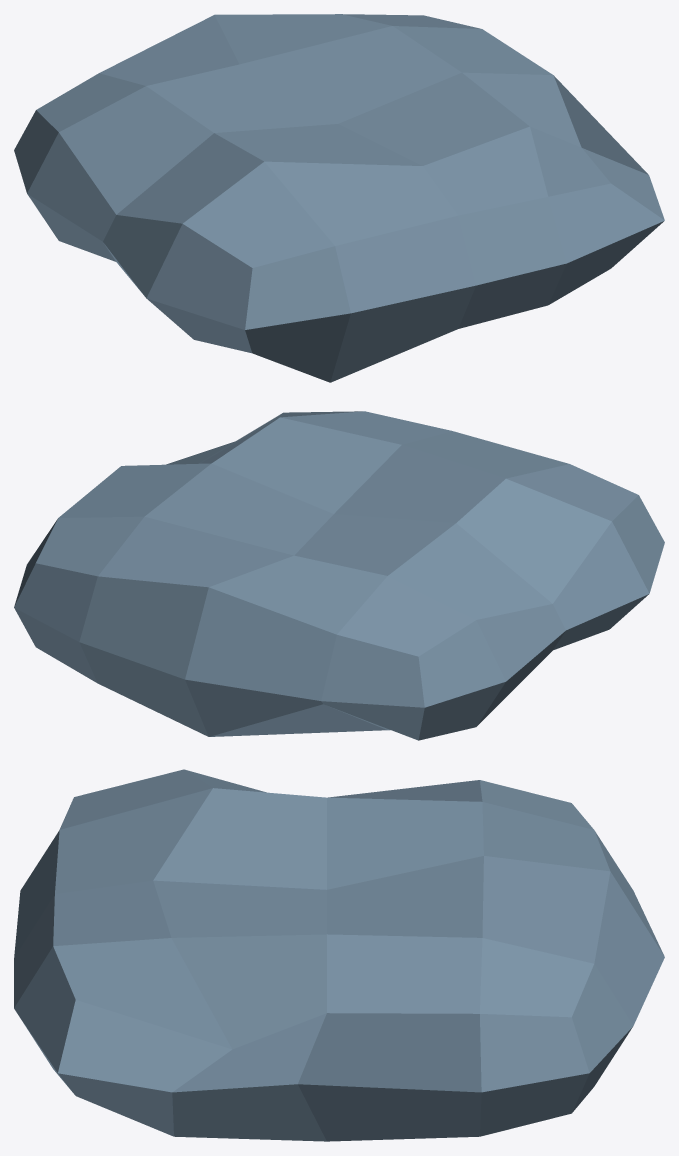
Rendered from Stone (1).fbx.
The picture shows the model from 3 angles, top to bottom: view 1: azimuth 30°, elevation 25°; view 2: azimuth 150°, elevation 25°; view 3: azimuth 270°, elevation 25°; orthographic projection. The views are drawn at different scales.
Parts seen in each view (by area): view 1: Rock 1; view 2: Rock 1; view 3: Rock 1.
Part boxes in pixels (x1,y1,x2,y2): Rock 1: [14, 14, 664, 382]; Rock 1: [14, 411, 664, 740]; Rock 1: [14, 769, 664, 1141].
Size of the model in its own units: 1137 by 430 by 1135.
